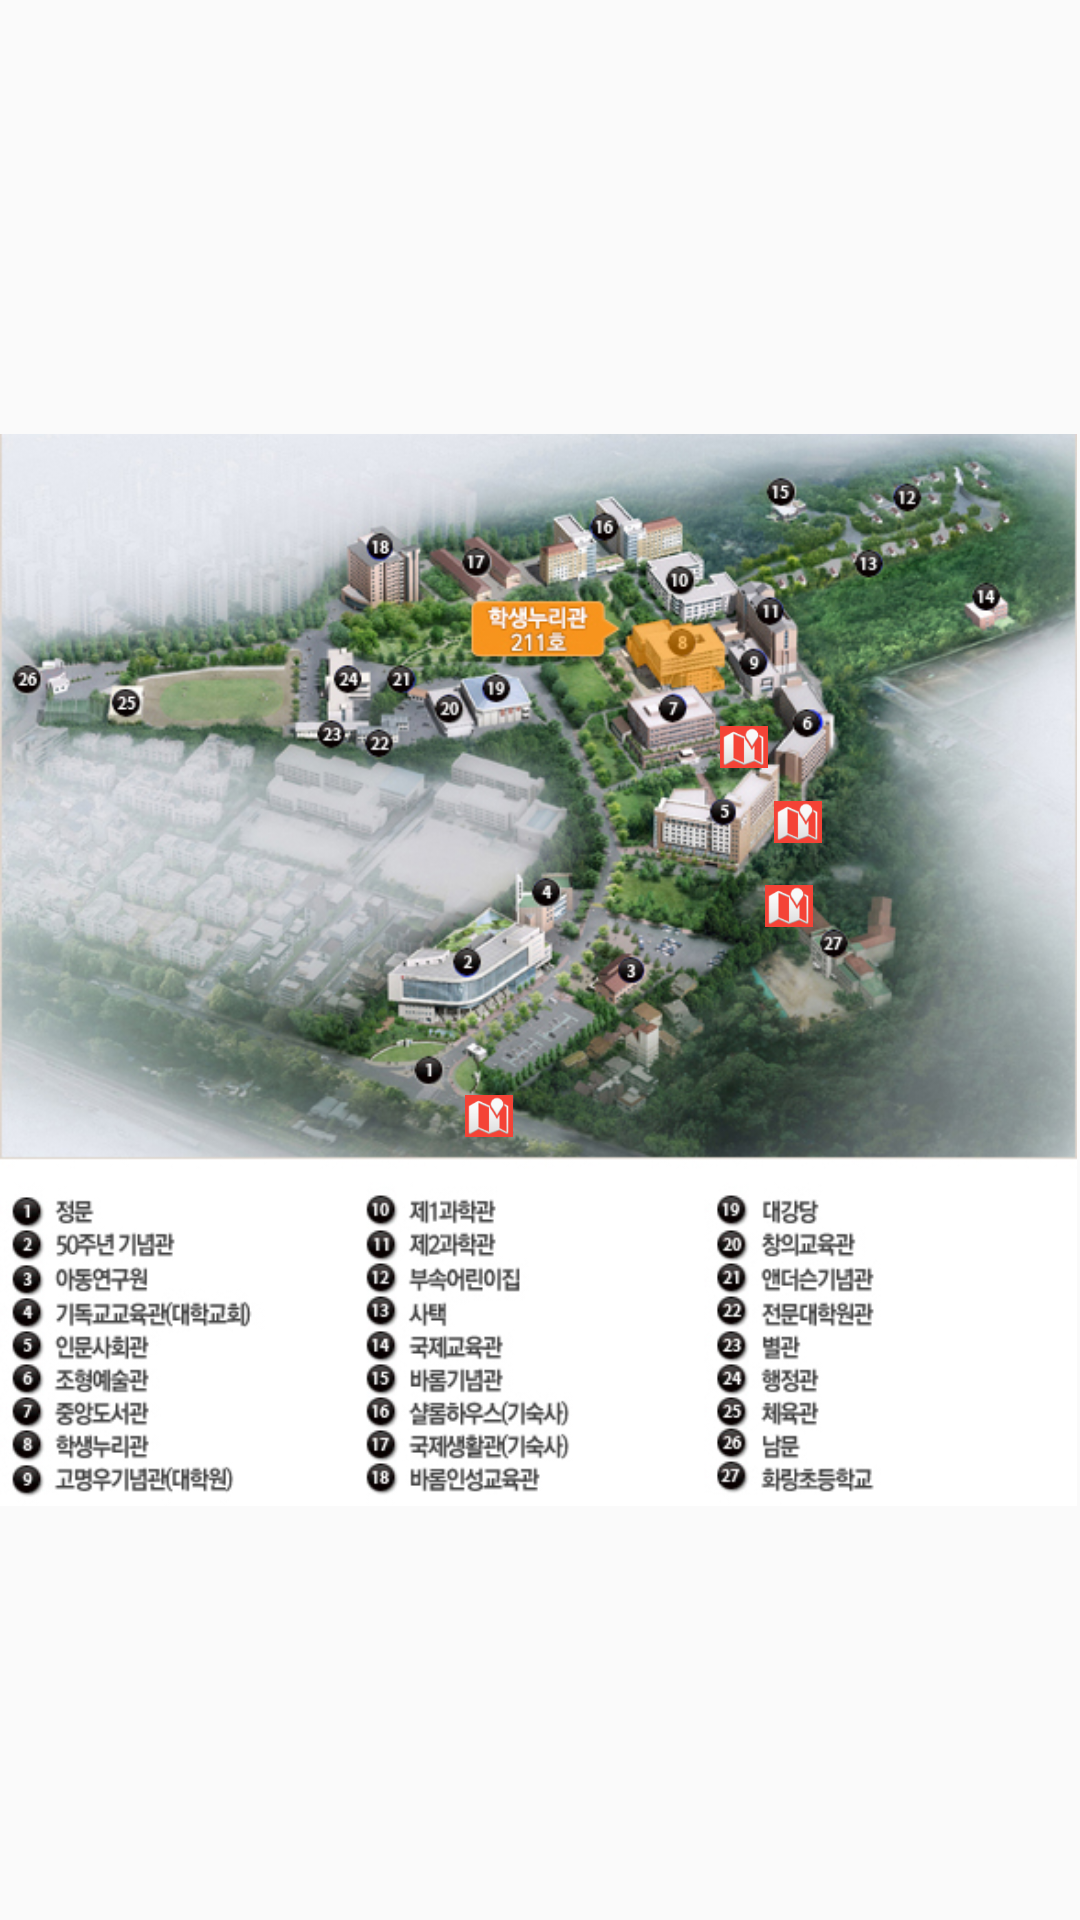

Where to tap for icons on this 1080 x 1920 app screen, as (x=x, y=y):
map: (x=744, y=747), (x=798, y=822), (x=789, y=906), (x=489, y=1116)
